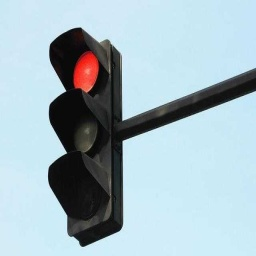traffic light: (47, 27, 123, 248)
